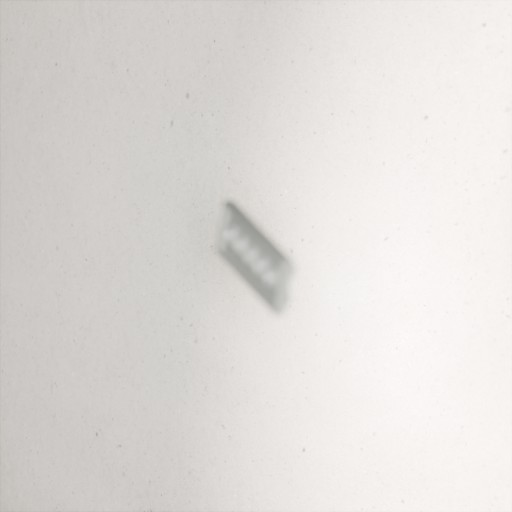lego: (215, 199, 296, 317)
